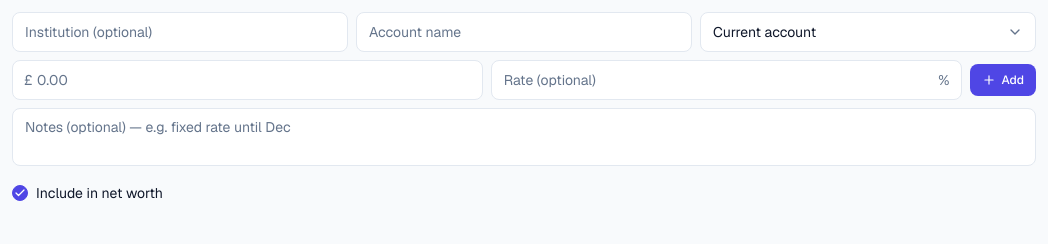
Test: AddAccountForm › shows validation error when balance is invalid
Type "Test" into the field with placeholder "Account name" at (524, 32), box [356,12,692,52]
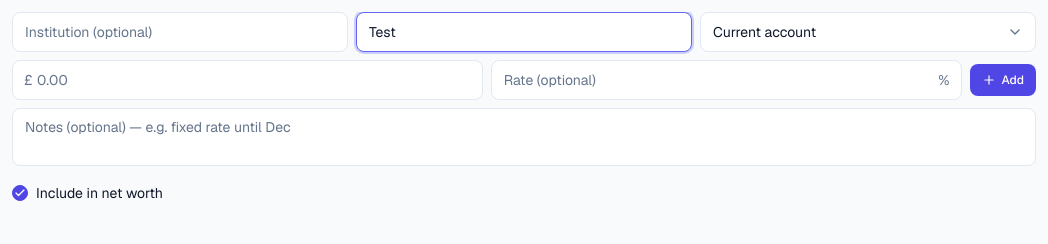
# submit without balance
Click the button "Add" at (1003, 80), box [970,64,1036,96]
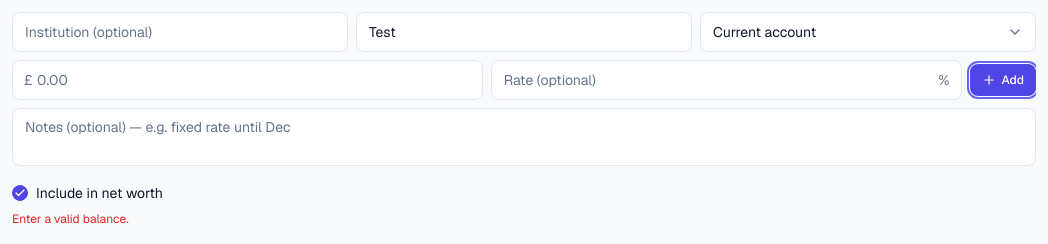
Expected: the text "Enter a valid balance." is shown, [12,211,129,227]
